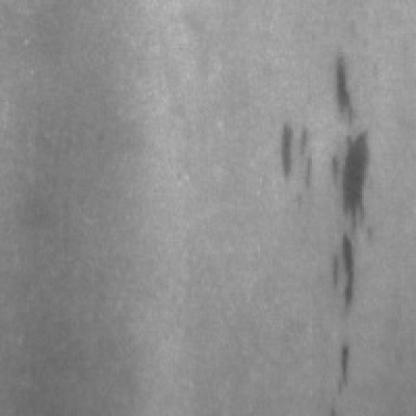inclusion: (326, 125, 372, 227), (271, 114, 318, 194), (322, 48, 358, 125), (326, 224, 356, 312), (324, 324, 358, 398)
